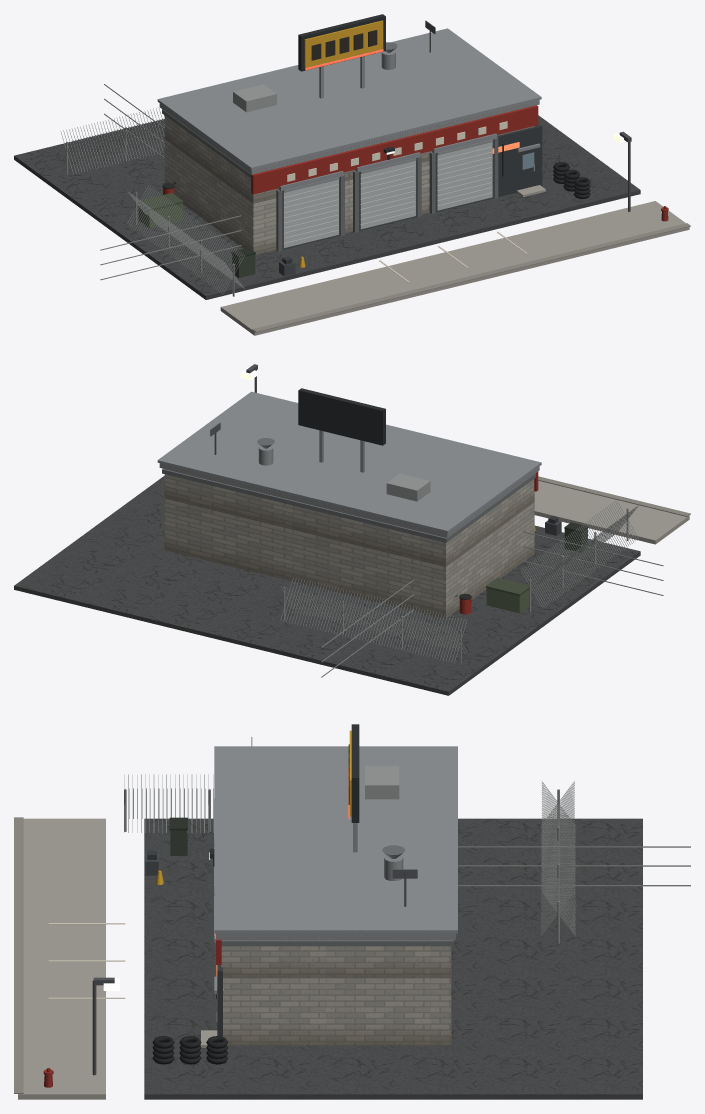
File: jersey_bodyshop.glb
3 views of the same model, one above another, from view 1: azimuth 30°, elevation 25°; view 2: azimuth 150°, elevation 25°; view 3: azimuth 270°, elevation 25° (orthographic). The views are drawn at different scales.
Bounding box in the file's own units: 39 × 12.12 × 35.3.
Materials: 52 (4 with a texture image).
